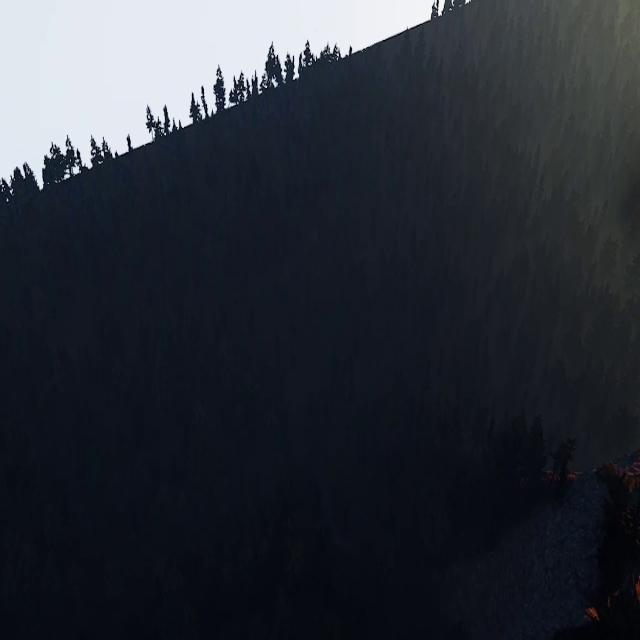fire: (586, 606, 600, 621)
